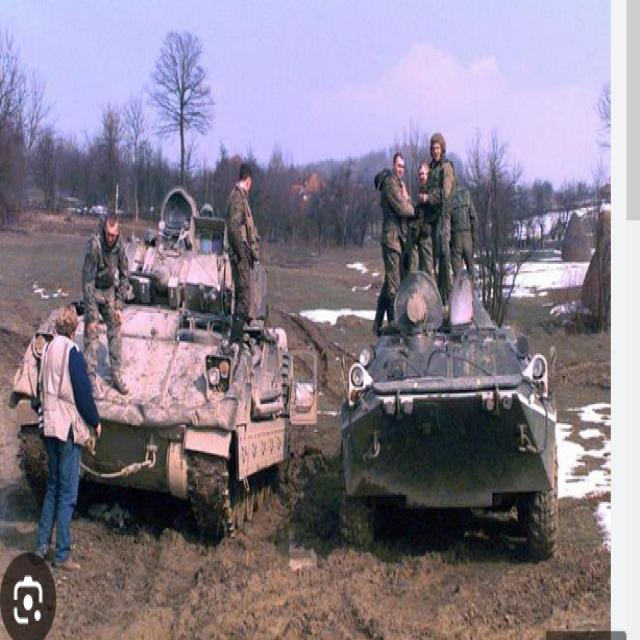MIL_APC: (25, 191, 309, 517), (337, 261, 566, 539)
